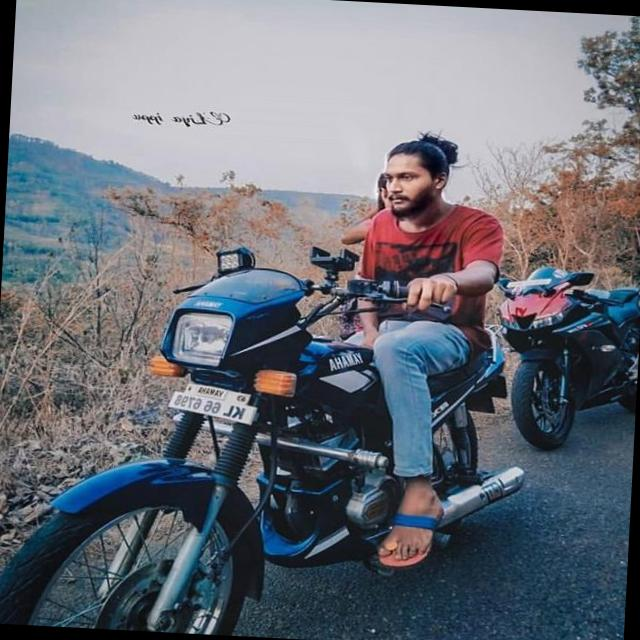No helmet: (382, 128, 463, 222)
